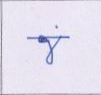anusvara: (55, 25, 59, 29)
